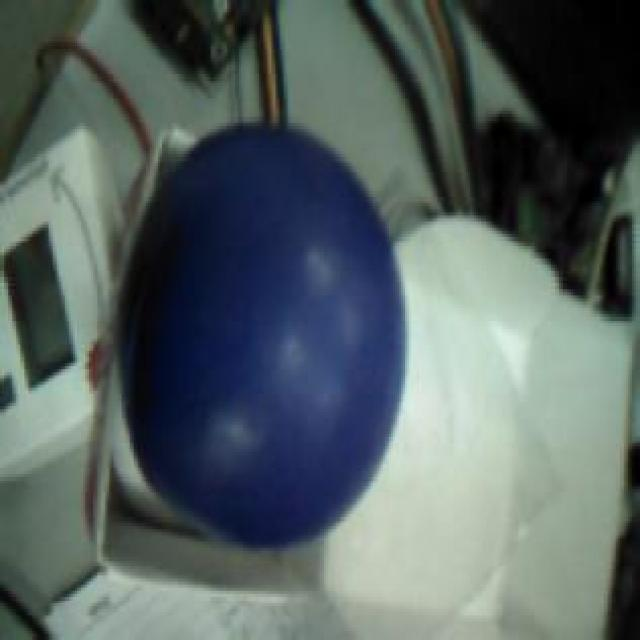BallPurple: (117, 123, 404, 547)
